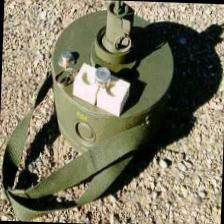M21: (41, 0, 181, 180)
